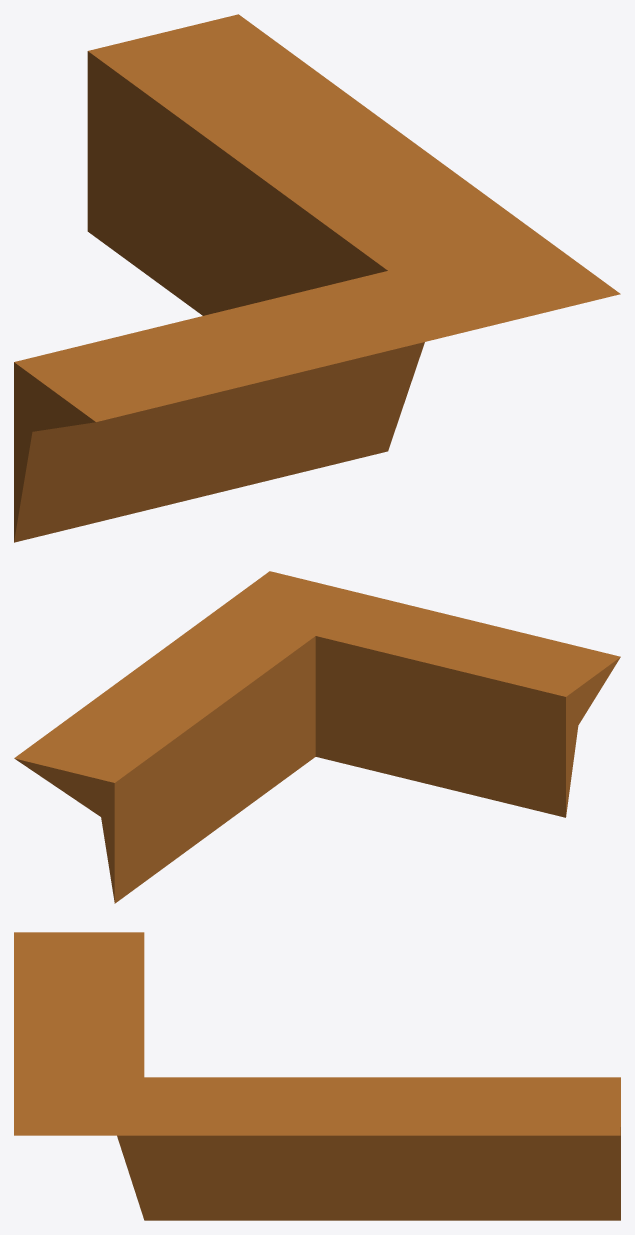
The model's file is Table.fbx.
The picture shows the model from 3 angles, top to bottom: view 1: azimuth 30°, elevation 25°; view 2: azimuth 150°, elevation 25°; view 3: azimuth 270°, elevation 25°; orthographic projection. The views are drawn at different scales.
Visible parts, largest first — view 1: pCube1; view 2: pCube1; view 3: pCube1.
Part boxes in pixels (<box>): pCube1: <box>14,14,620,542</box>; pCube1: <box>14,571,620,903</box>; pCube1: <box>14,932,620,1220</box>.
Bounding box in the file's own units: 3.04 × 1 × 3.84.
